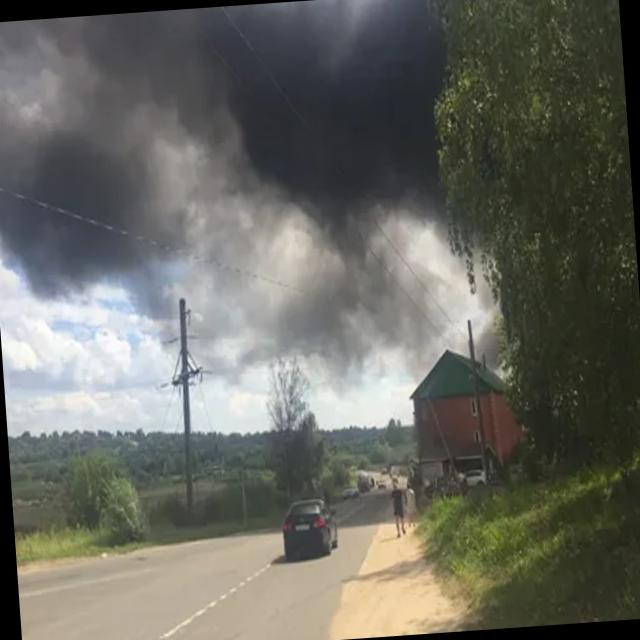Smoke: (193, 0, 550, 376)
